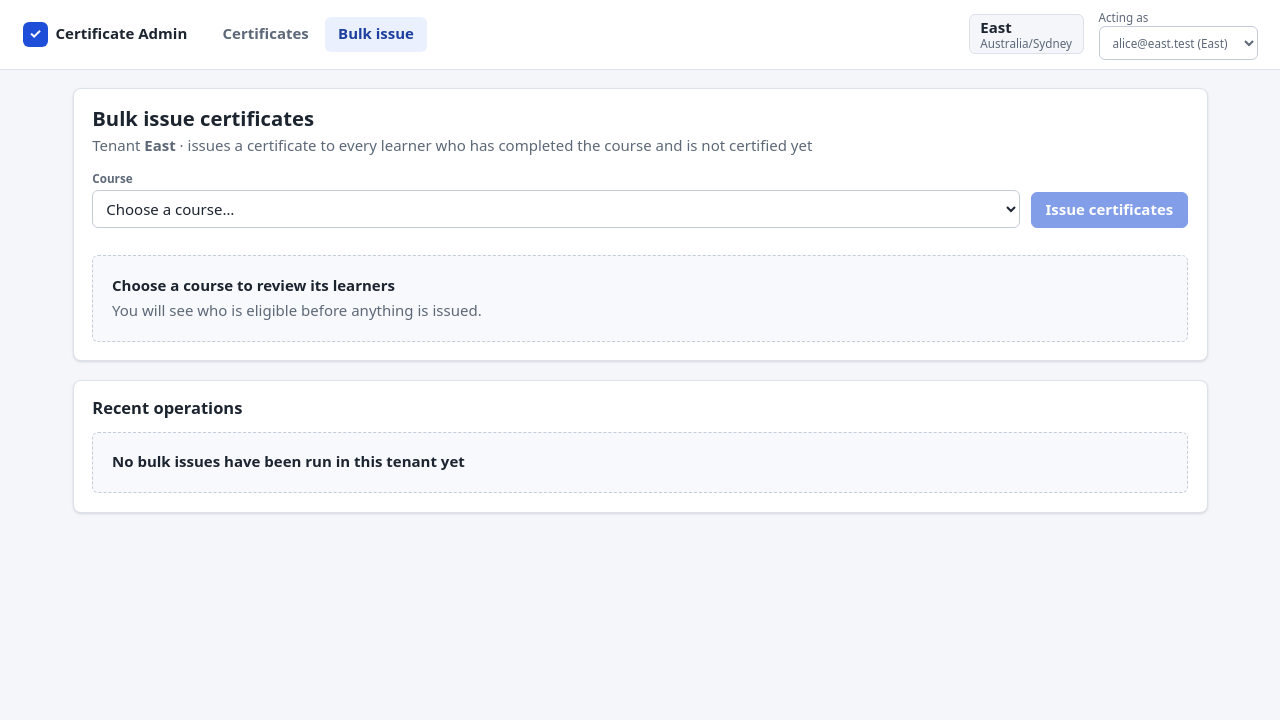
Test: Bulk issue: a roster of several pages › pages through the learners, and starts on page 1 again when another course is chosen
This screenshot has width=1280, height=720.
Check: the heading "Bulk issue certificates" is shown, box [92,104,314,132]
Select "Safety 101" in the dropdown with test id "course-select": (556,209) [92,190,1020,228]
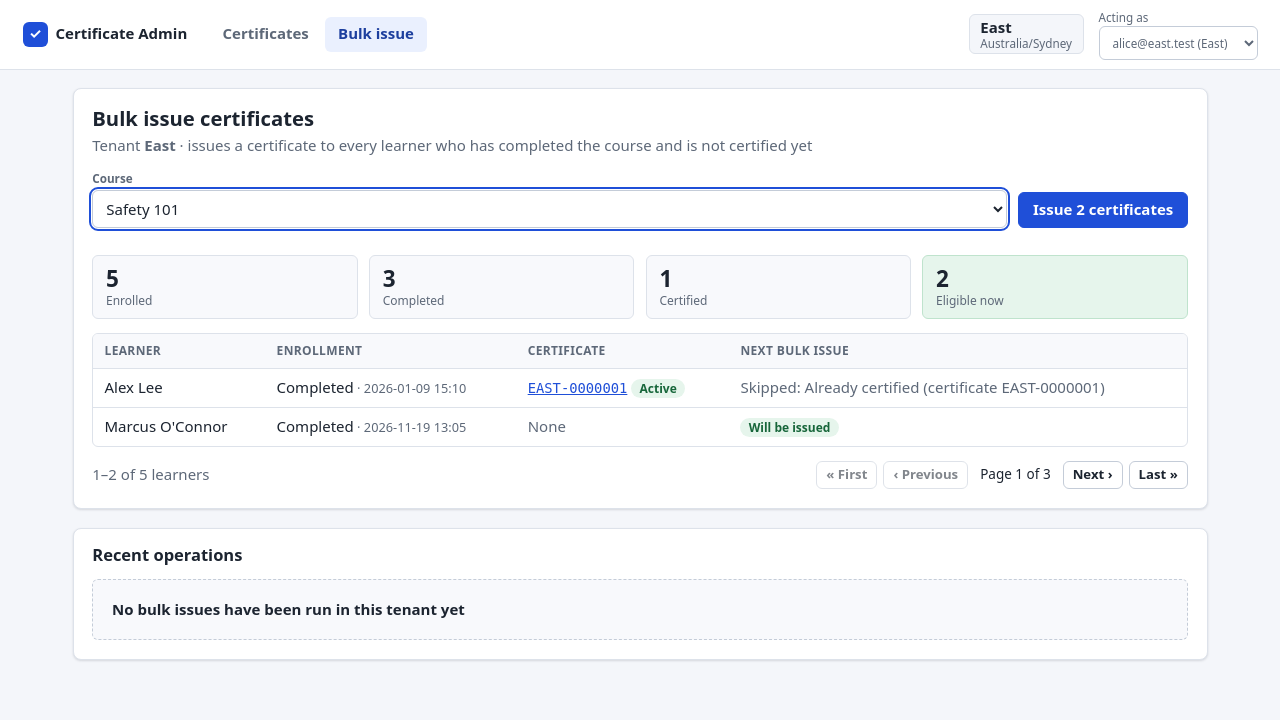
Check: the element with test id "roster-summary" is shown, box [92,255,1188,319]
Check: the navigation bar named "Pagination" shows "1–2 of 5 learners", box [92,464,210,484]
Check: the navigation bar named "Pagination" shows "Page 1 of 3", box [92,460,1188,489]
Click the button "Next ›": (1093,475) [1063,460,1122,489]
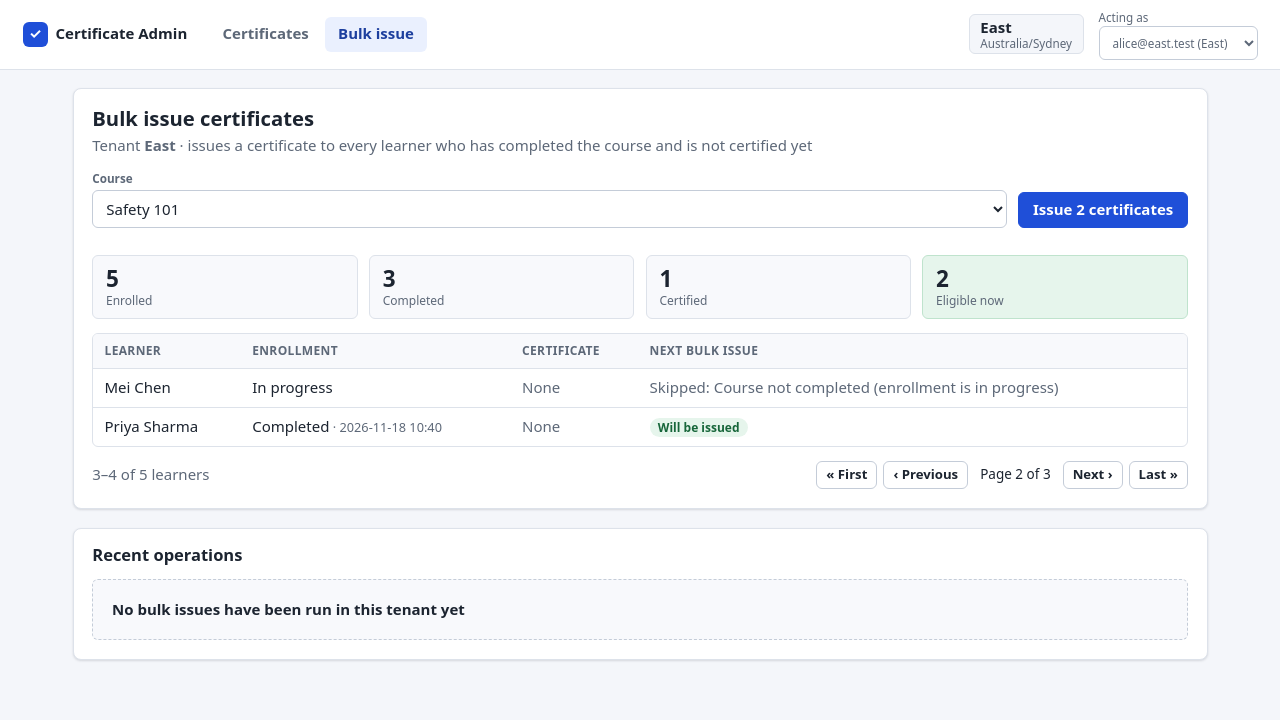
Check: the navigation bar named "Pagination" shows "3–4 of 5 learners", box [92,464,210,484]
Click the button "Last »": (1158,475) [1128,460,1188,489]
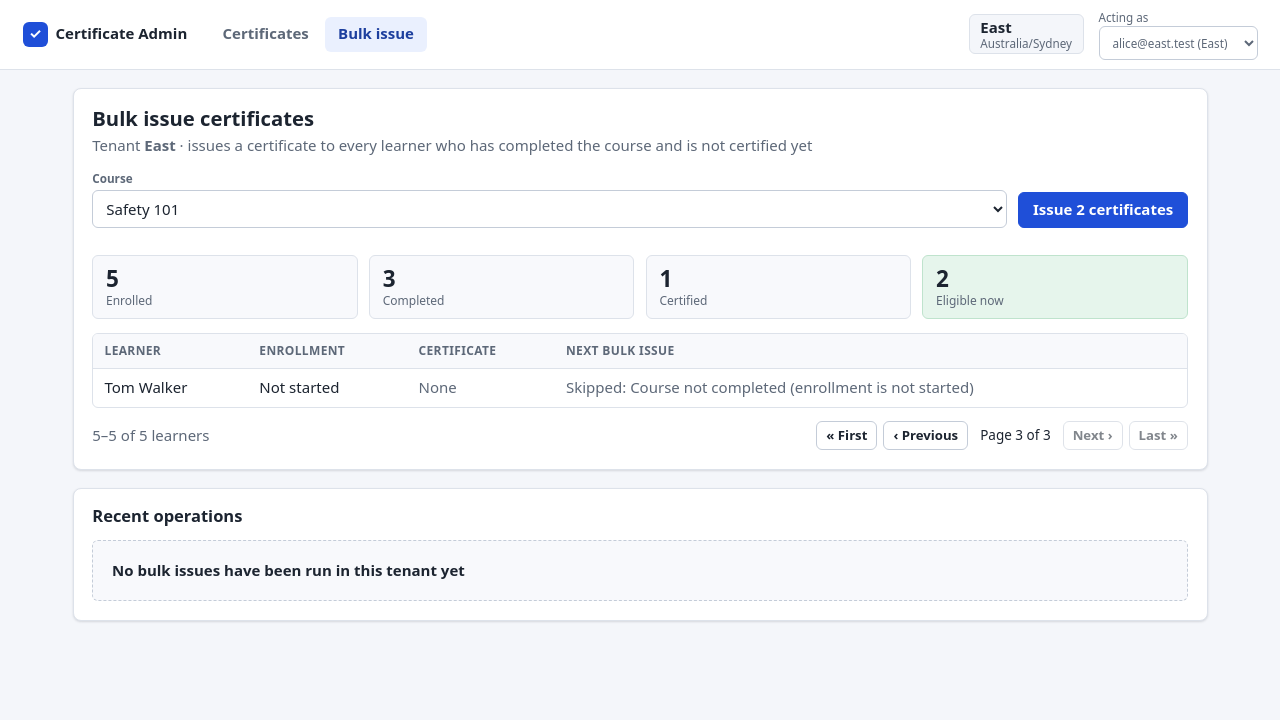
Check: the element with test id "roster-summary" is shown, box [92,255,1188,319]
Check: the navigation bar named "Pagination" shows "5–5 of 5 learners", box [92,425,210,445]
Check: the navigation bar named "Pagination" shows "Page 3 of 3", box [92,421,1188,450]
Select "First Aid Refresher" in the dropdown with test id "course-select": (550,209) [92,190,1007,228]
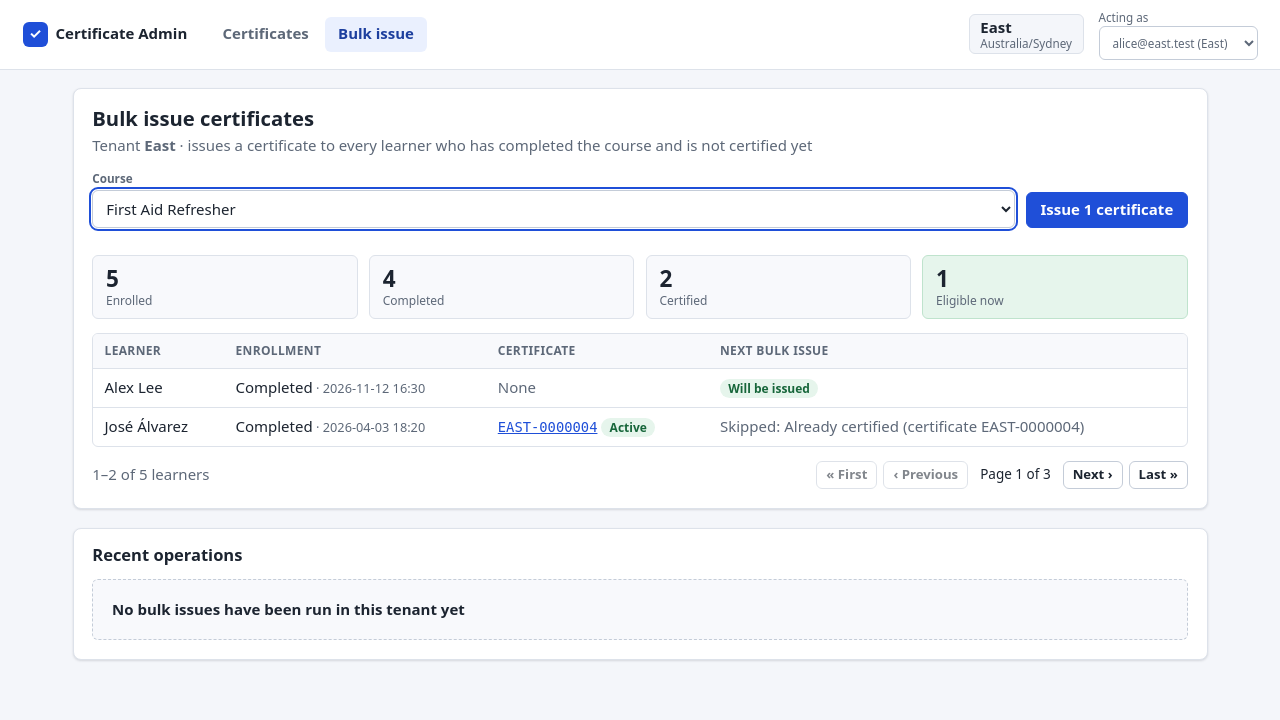
Check: the navigation bar named "Pagination" shows "Page 1 of 3", box [92,460,1188,489]
